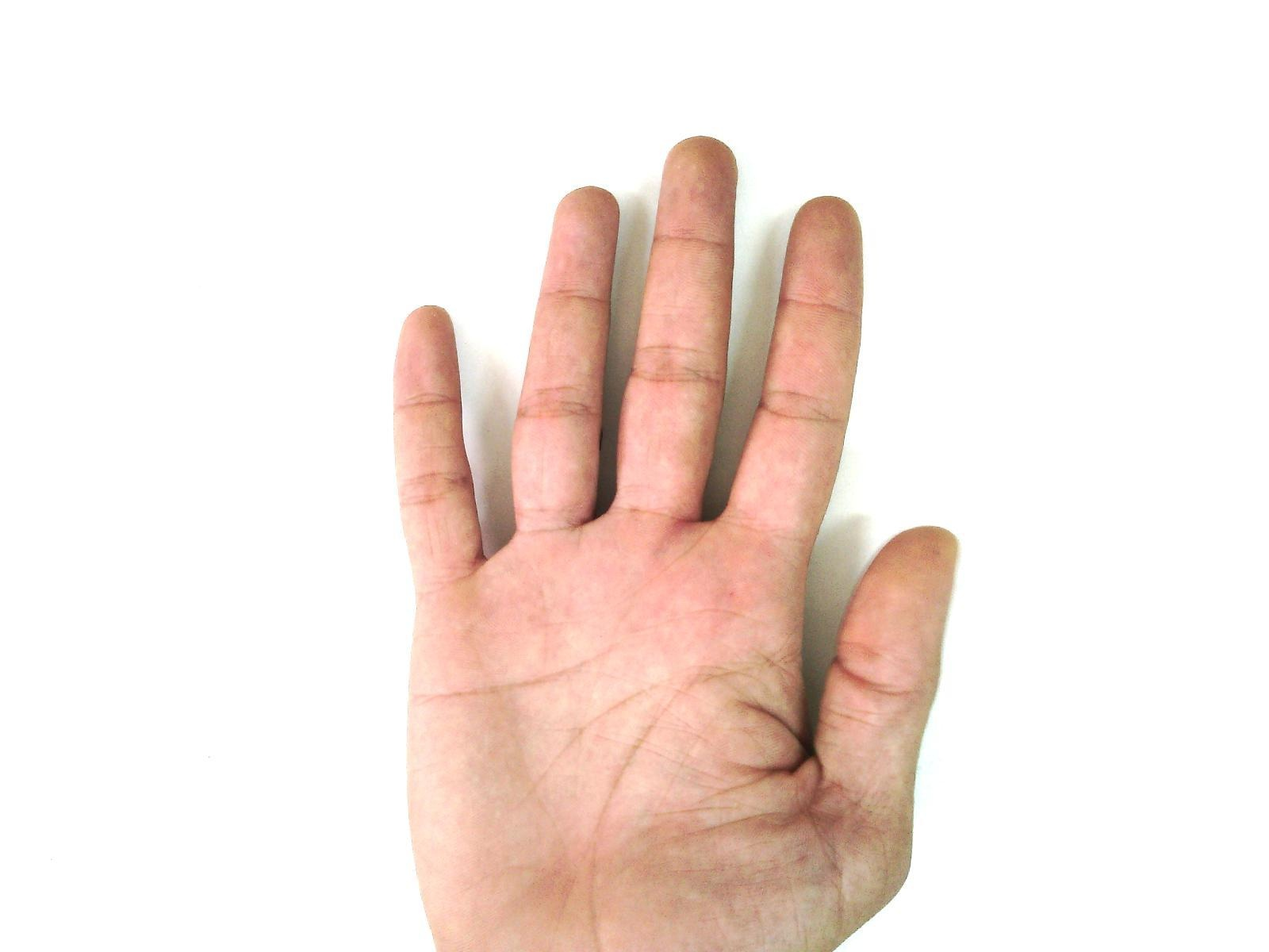open_palm: (388, 135, 962, 951)
